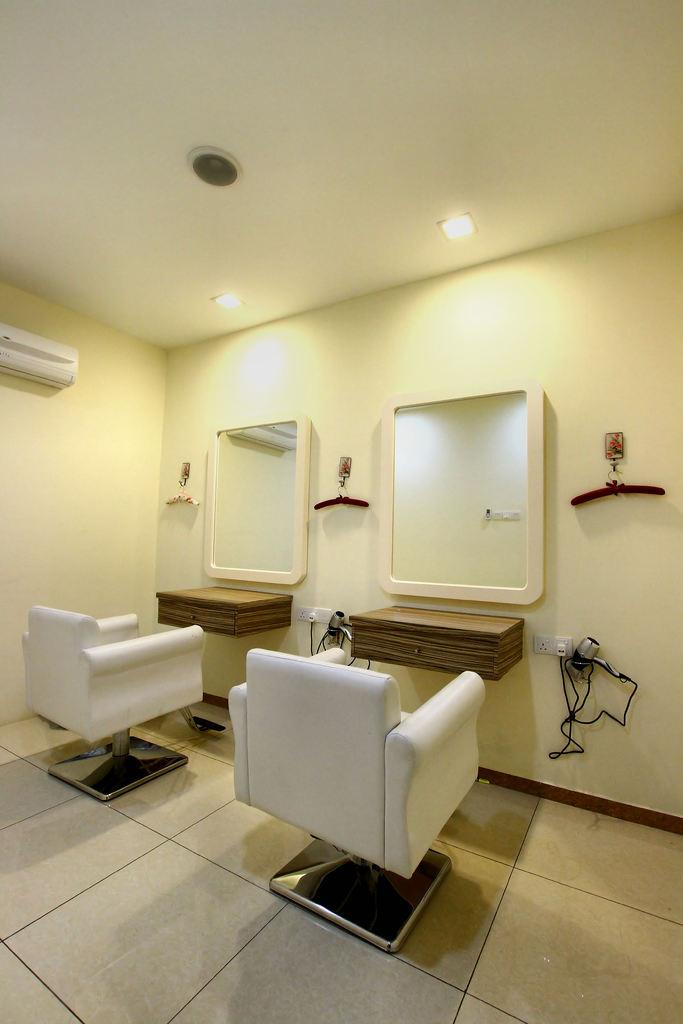Chair: (218, 655, 475, 917), (22, 611, 206, 805)
